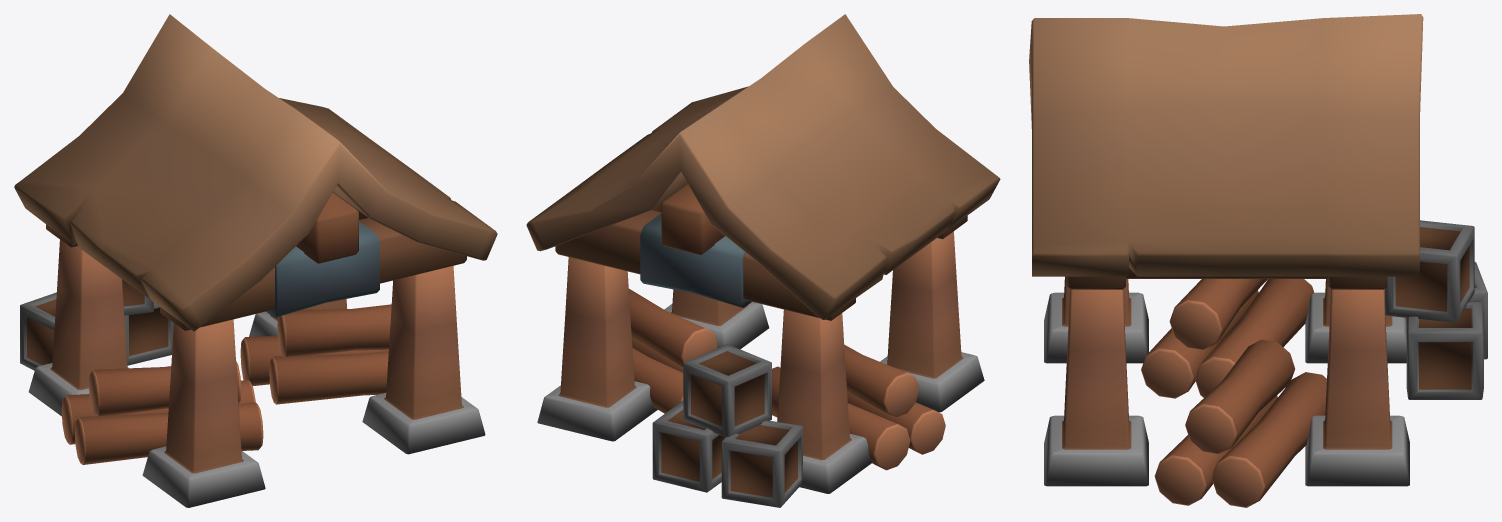
Rendered from WoodWorkSpace_1.fbx.
The picture shows the model from 3 angles, left to right: view 1: azimuth 30°, elevation 25°; view 2: azimuth 150°, elevation 25°; view 3: azimuth 270°, elevation 25°; orthographic projection. The views are drawn at different scales.
Parts seen in each view (by area): view 1: WoodWorkSpace_1; view 2: WoodWorkSpace_1; view 3: WoodWorkSpace_1.
Part boxes in pixels (x1,y1,x2,y2): WoodWorkSpace_1: (14, 14, 497, 507); WoodWorkSpace_1: (526, 14, 1000, 507); WoodWorkSpace_1: (1029, 14, 1487, 507).
Size of the model in its own units: 231 by 209 by 219.
